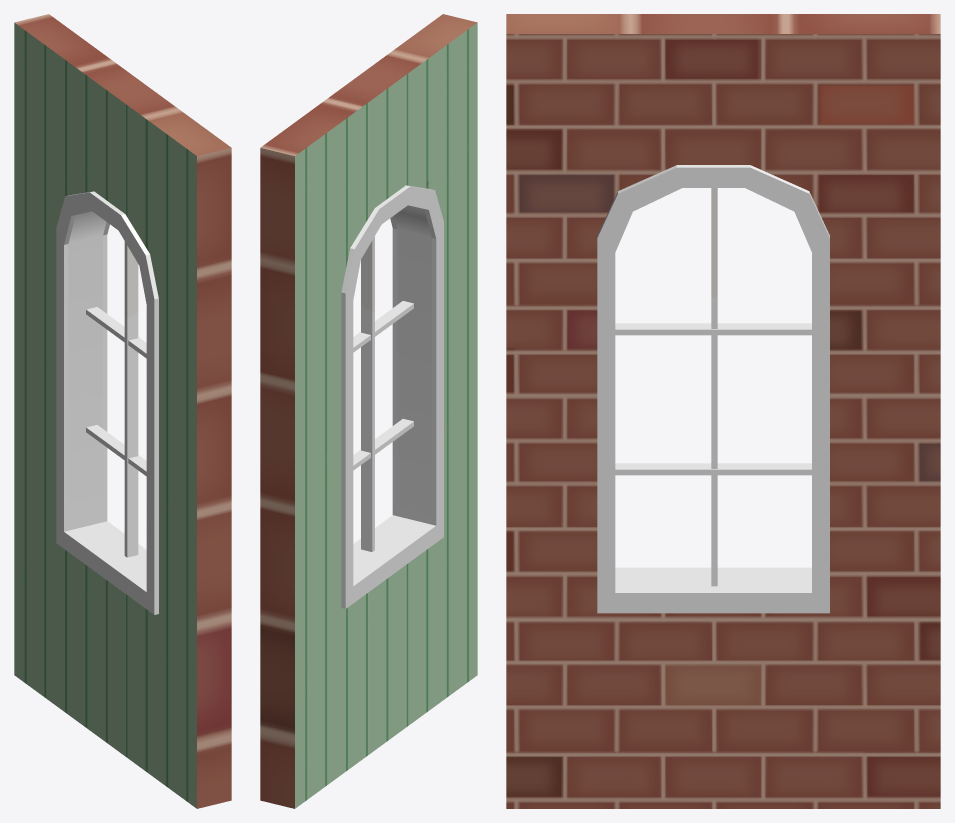
File: smallWindow2.fbx
3 renders of one model, left to right at view 1: azimuth 30°, elevation 25°; view 2: azimuth 150°, elevation 25°; view 3: azimuth 270°, elevation 25°, orthographic. The views are drawn at different scales.
Parts seen in each view (by area): view 1: polySurface506, polySurface504, polySurface503, polySurface505; view 2: polySurface506, polySurface504, polySurface505, polySurface503; view 3: polySurface506, polySurface504, polySurface503, polySurface505.
Part boxes in pixels (left/top/right/bottom): polySurface506: left=14, top=14, right=231, bottom=808; polySurface504: left=124, top=241, right=138, bottom=557; polySurface503: left=86, top=307, right=146, bottom=358; polySurface505: left=86, top=425, right=146, bottom=476; polySurface506: left=260, top=14, right=477, bottom=808; polySurface504: left=361, top=236, right=374, bottom=551; polySurface505: left=353, top=419, right=413, bottom=470; polySurface503: left=353, top=301, right=413, bottom=352; polySurface506: left=506, top=14, right=940, bottom=808; polySurface504: left=711, top=188, right=717, bottom=586; polySurface503: left=615, top=323, right=811, bottom=335; polySurface505: left=615, top=463, right=811, bottom=475.
Size of the model in its own units: 0.3137 by 4.5 by 2.28.
